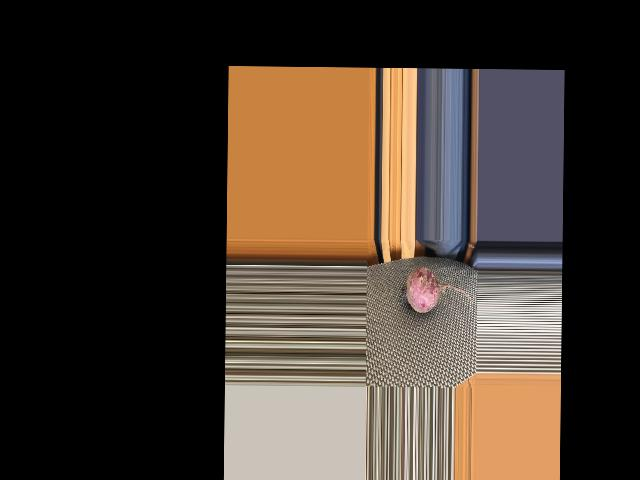beet: (400, 266, 471, 312)
